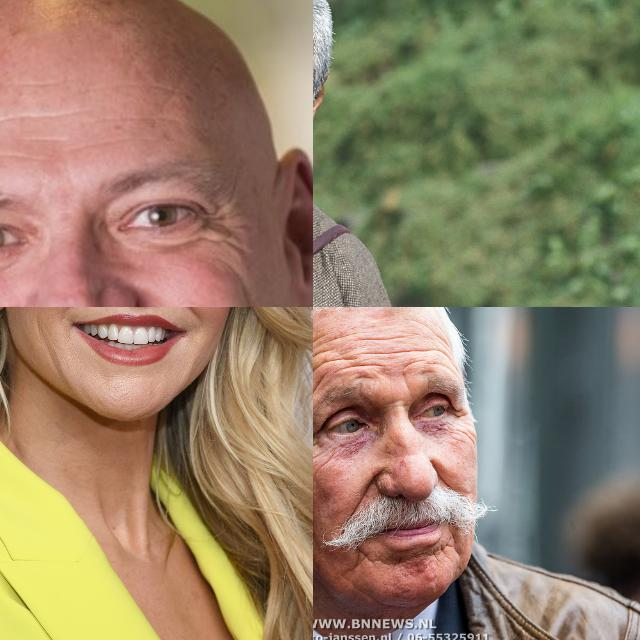chin: (428, 546, 447, 572)
crows_feet: (196, 204, 244, 250), (451, 410, 475, 448), (313, 429, 321, 464)
forehead: (397, 343, 459, 377), (334, 353, 384, 382), (0, 103, 37, 132), (0, 143, 39, 167), (313, 336, 327, 392)
frown_line: (386, 394, 408, 410)
gummy_smile: (428, 462, 458, 498), (354, 475, 376, 515), (172, 307, 204, 325)
masseter: (31, 316, 65, 372), (234, 273, 269, 307)
sad_smile: (445, 524, 463, 562), (349, 543, 373, 571)
